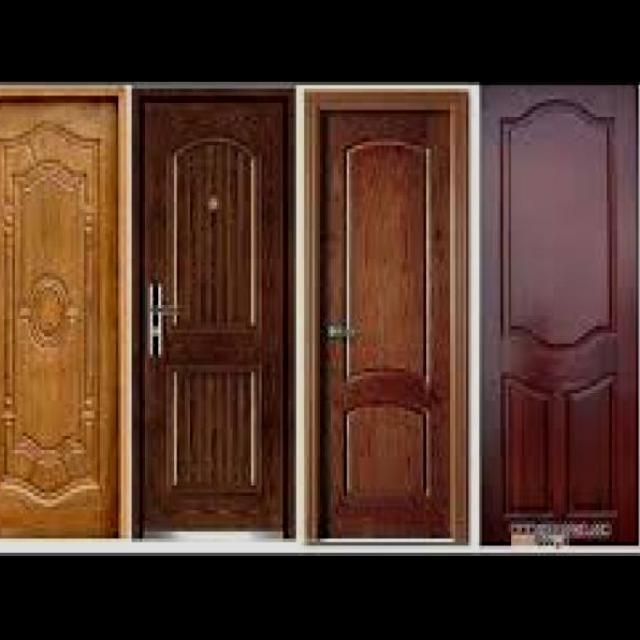door: (134, 90, 293, 540), (310, 93, 464, 543)
